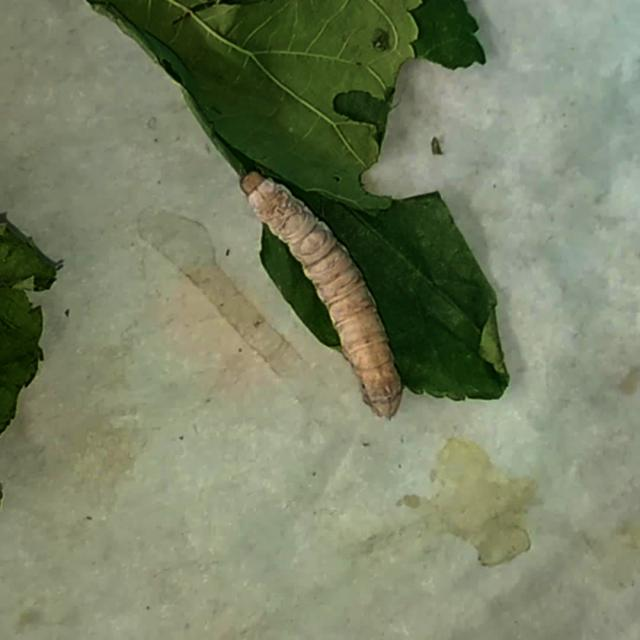Grasserie: (236, 165, 410, 424)
